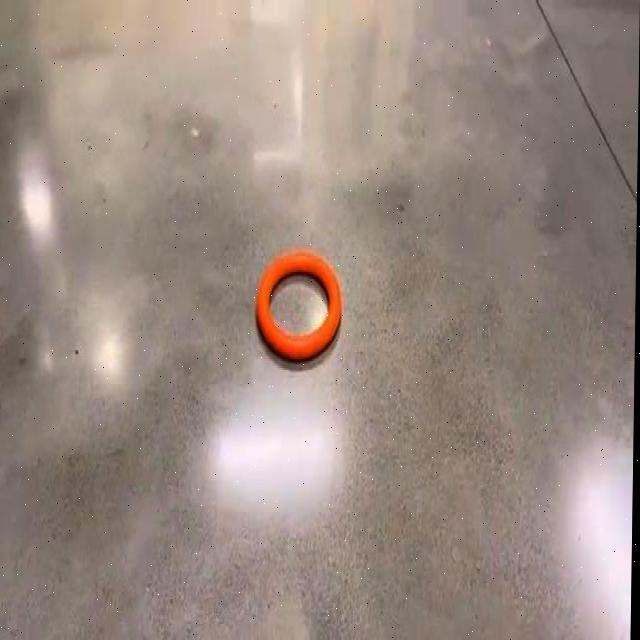note: (257, 251, 343, 359)
